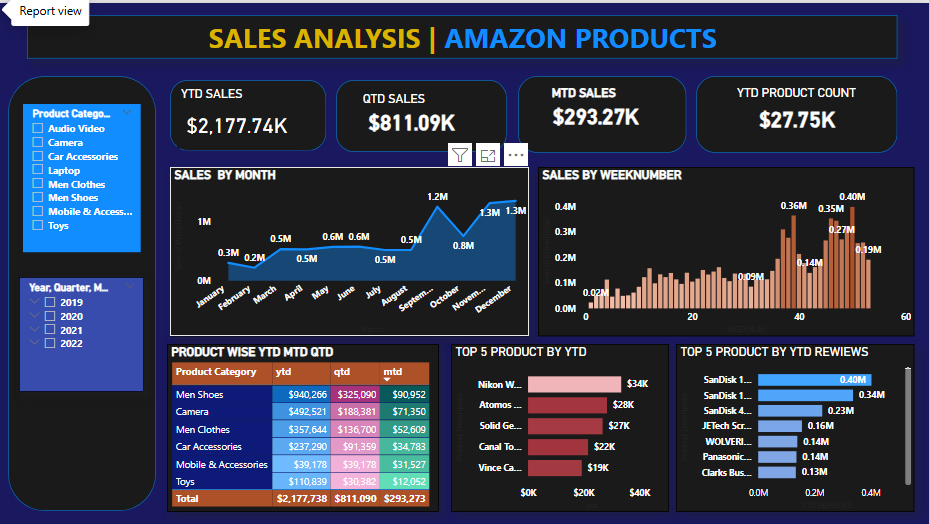

What the dashboard file says about the page in this screenshot:
{"tool":"powerbi","page":{"name":"Page 1","canvas":[1280,720],"ordinal":0},"visuals":[{"type":"textbox","box":[38.6,16.8,1197.7,60.5],"z":0},{"type":"shape","box":[12.4,100.5,203.7,598.7],"z":1000},{"type":"shape","box":[235.2,105.8,215,97.4],"z":2000},{"type":"shape","box":[463.6,105.8,235.2,99.1],"z":3000},{"type":"shape","box":[713.9,100.8,231.8,105.8],"z":4000},{"type":"shape","box":[959.2,100.8,277.2,105.8],"z":5000},{"type":"card","title":"YTD SALES","fields":{"Values":["Amazon_Data.ytd"]},"box":[245.2,114.2,164.6,85.7],"z":6000},{"type":"card","title":"QTD SALES","fields":{"Values":["Amazon_Data.qtd"]},"box":[495.5,120.9,144.5,65.5],"z":7000},{"type":"card","title":"MTD SALES","fields":{"Values":["Amazon_Data.mtd"]},"box":[755.9,112.5,131,65.5],"z":8000},{"type":"card","title":"YTD PRODUCT COUNT","fields":{"Values":["Amazon_Data.YTD PRODUCTS SOLD"]},"box":[1009.6,112.5,176.4,72.2],"z":9000},{"type":"areaChart","title":"SALES  BY MONTH","fields":{"Y":["Sum(Amazon_Data.Price(Dollar))"],"Category":["date table.Date.Variation.Date Hierarchy.Month"]},"box":[235.4,225.7,494.1,232.6],"z":10000},{"type":"clusteredColumnChart","title":"SALES BY WEEKNUMBER","fields":{"Y":["Sum(Amazon_Data.Price(Dollar))"],"Category":["date table.WEEKNUM"]},"box":[741.8,225.7,517.5,232.6],"z":11000},{"type":"tableEx","title":"PRODUCT WISE YTD MTD QTD","fields":{"Values":["Amazon_Data.Product Category","Amazon_Data.ytd","Amazon_Data.qtd","Amazon_Data.mtd"]},"box":[231.2,469.3,374.4,231.2],"z":12000},{"type":"barChart","title":"TOP 5 PRODUCT BY YTD","fields":{"Category":["Amazon_Data.Product Description"],"Y":["Amazon_Data.ytd"]},"box":[622.1,469.3,300,231.2],"z":13000},{"type":"barChart","title":"TOP 5 PRODUCT BY YTD REWIEWS","fields":{"Category":["Amazon_Data.Product Description"],"Y":["Amazon_Data.YTD REWIEWS"]},"box":[931.8,469.3,327.6,231.2],"z":14000},{"type":"slicer","fields":{"Values":["Amazon_Data.Product Category"]},"box":[33,139,162.4,203.7],"z":15000},{"type":"slicer","fields":{"Values":["date table.Date.Variation.Date Hierarchy.Year","date table.Date.Variation.Date Hierarchy.Quarter","date table.Date.Variation.Date Hierarchy.Month","date table.Date.Variation.Date Hierarchy.Day"]},"box":[27.5,377.1,172,158.3],"z":16000}]}

Visuals, with their boxes on the page's 1280x720 design canvas (x1, y1, x2, y2). These are canvas units, not pixel positions in the 930x524 screenshot, which may show the page scaled, cropped or inside an application window:
textbox: 39,17,1236,77
shape: 12,100,216,699
shape: 235,106,450,203
shape: 464,106,699,205
shape: 714,101,946,207
shape: 959,101,1236,207
"YTD SALES" card: 245,114,410,200
"QTD SALES" card: 496,121,640,186
"MTD SALES" card: 756,112,887,178
"YTD PRODUCT COUNT" card: 1010,112,1186,185
"SALES  BY MONTH" areaChart: 235,226,730,458
"SALES BY WEEKNUMBER" clusteredColumnChart: 742,226,1259,458
"PRODUCT WISE YTD MTD QTD" tableEx: 231,469,606,700
"TOP 5 PRODUCT BY YTD" barChart: 622,469,922,700
"TOP 5 PRODUCT BY YTD REWIEWS" barChart: 932,469,1259,700
slicer - Amazon_Data.Product Category: 33,139,195,343
slicer - date table.Date.Variation.Date Hierarchy.Year x date table.Date.Variation.Date Hierarchy.Quarter: 28,377,200,535
